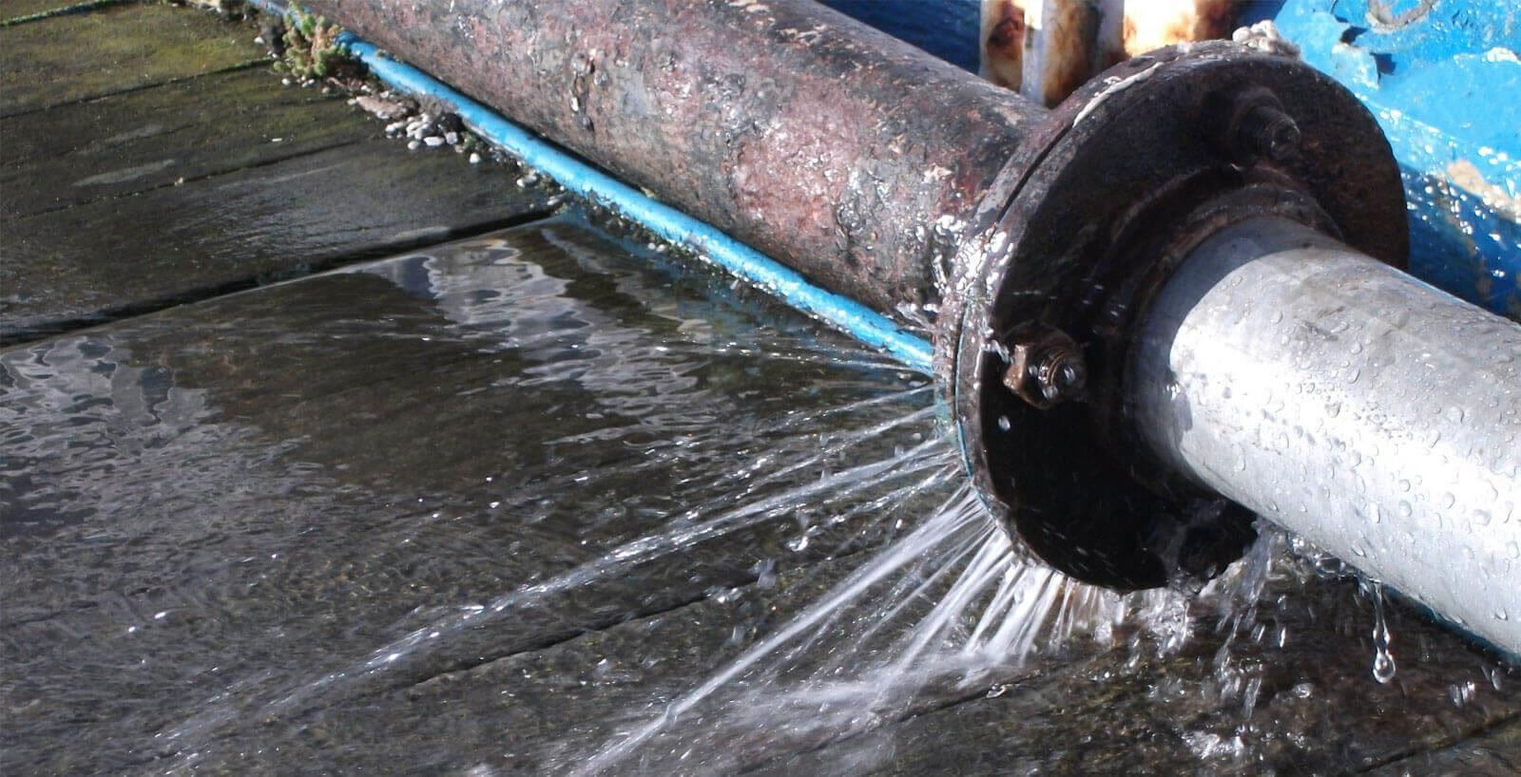pipe burst: (342, 355, 1270, 759)
water drop: (1366, 578, 1396, 687)
